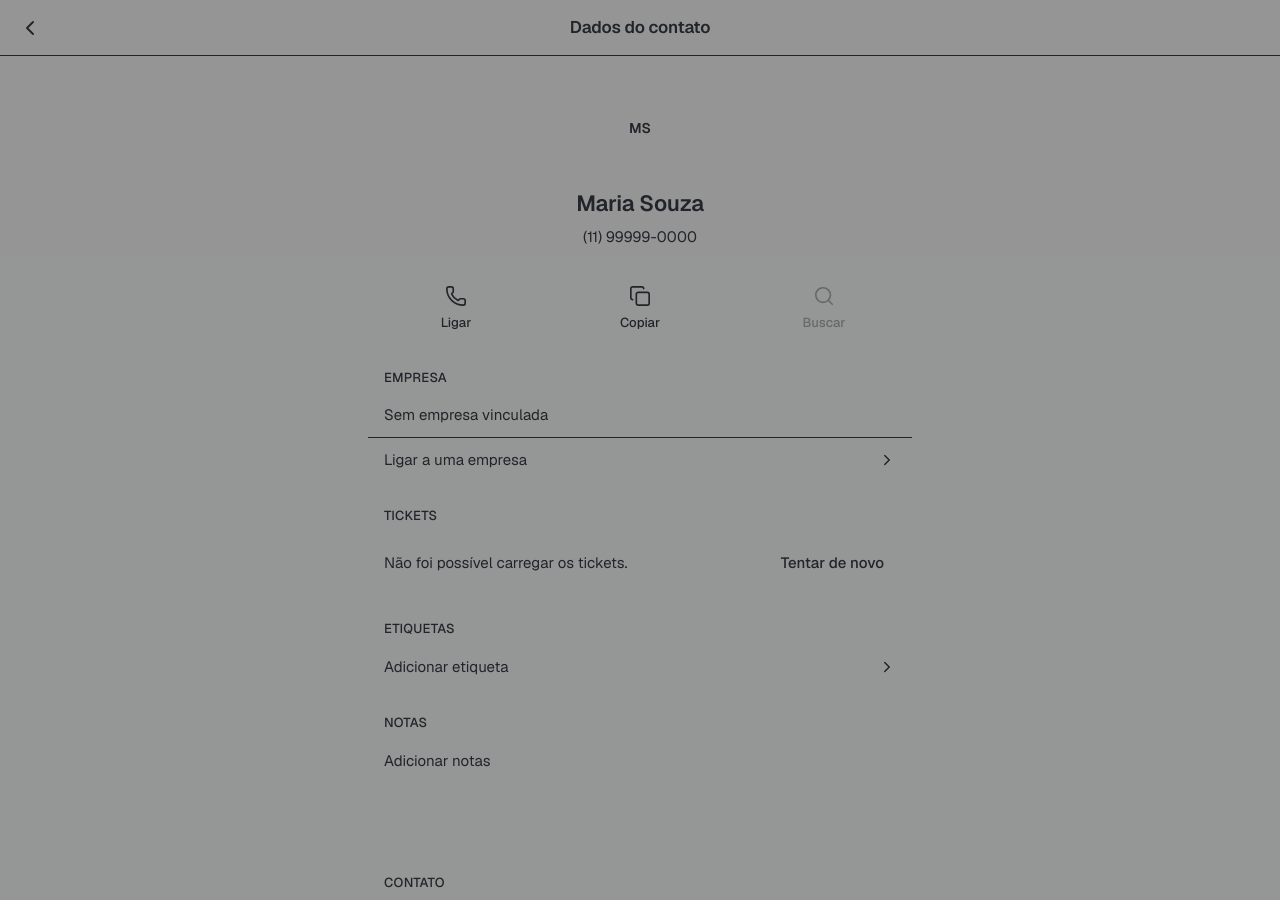
Test: ContactInfoSheet · tickets › a falha dos tickets fica no grupo: o resto do painel segue, e "Tentar de novo" relê
The width and height of the screenshot is (1280, 900).
Expected: the text "Não foi possível carregar os tickets." is shown, [384,552,628,574]
Expected: the heading "Maria Souza" is shown, [576,188,704,218]
Click the button "Tentar de novo": (832, 563) [769,541,896,585]
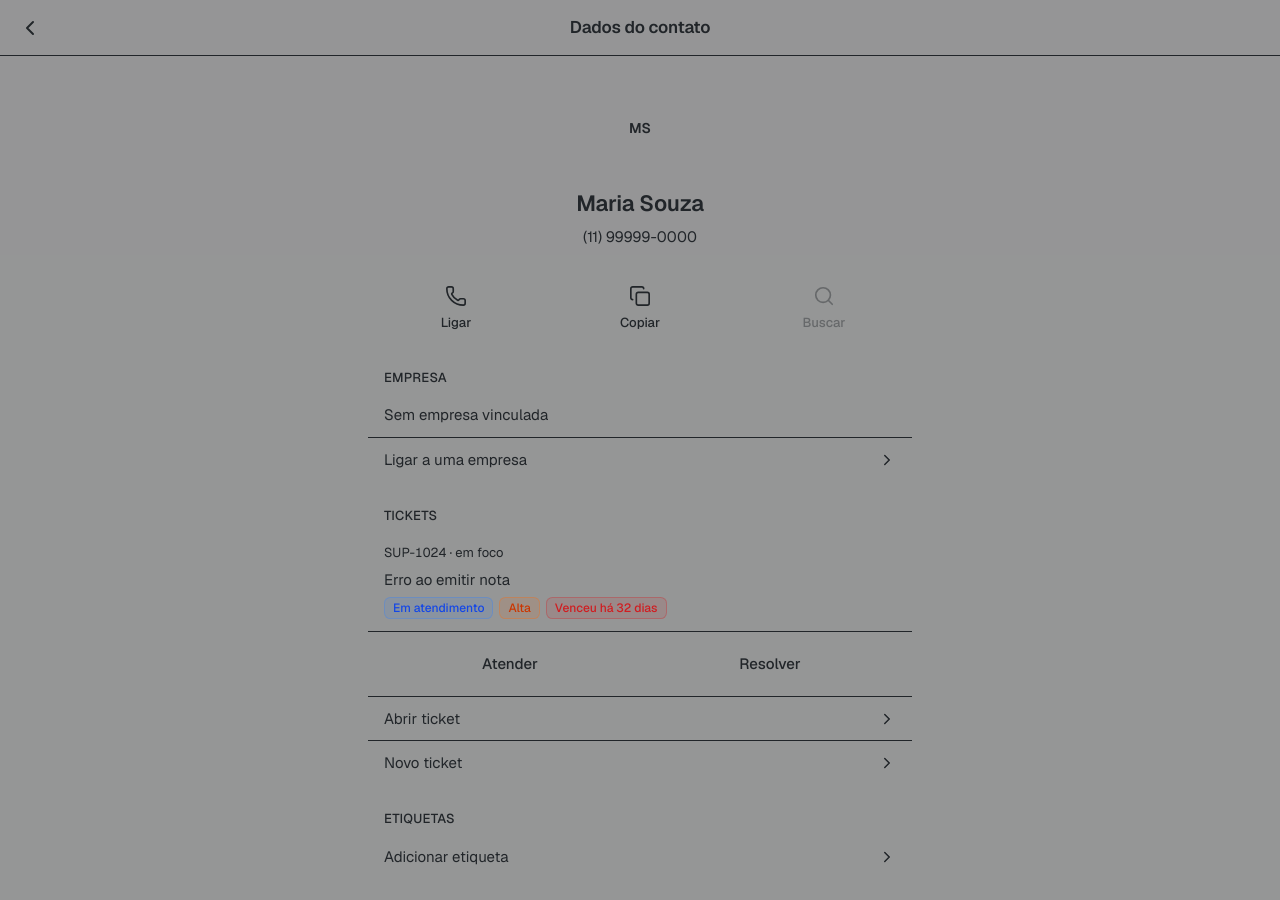
Result: the text "SUP-1024 · em foco" is shown at [384,544,503,561]
